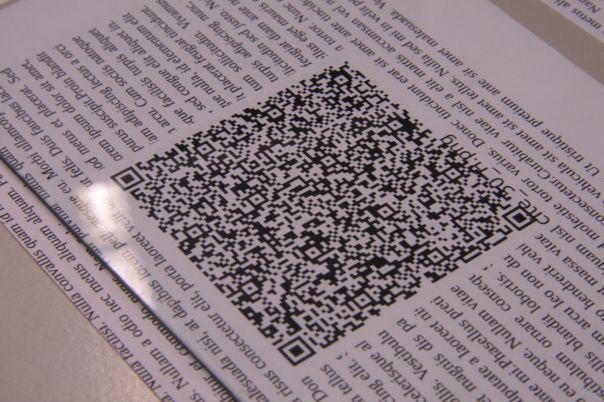qr_code: (111, 58, 536, 367)
